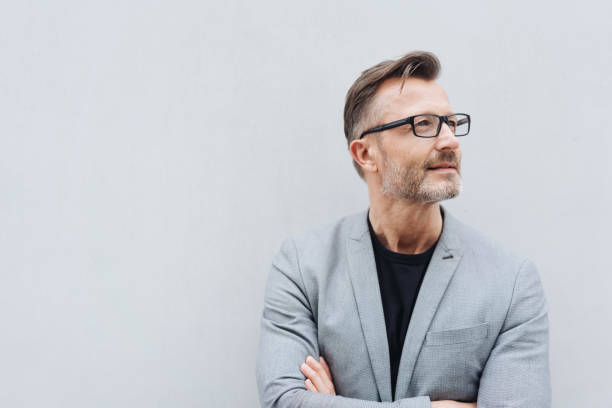Male: (244, 42, 558, 408)
